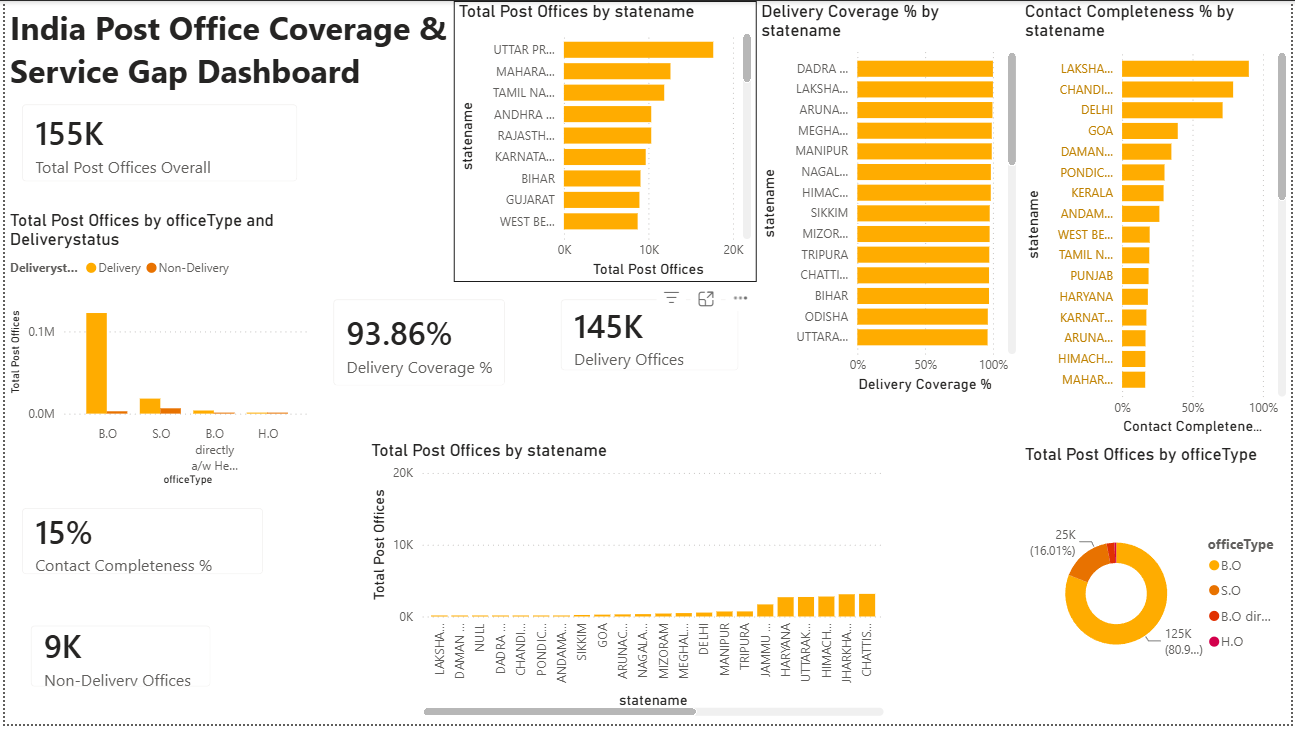

The dashboard page shown, as its layout file describes it:
{"tool":"powerbi","page":{"name":"Page 1","canvas":[1280,720],"ordinal":0},"visuals":[{"type":"cardVisual","fields":{"Data":["Dim-Office.Total Post Offices All"]},"box":[0,85.8,308.5,112],"z":0},{"type":"cardVisual","fields":{"Data":["Dim-Office.Delivery Offices"]},"box":[536.1,279.9,211.5,105.7],"z":1000},{"type":"cardVisual","fields":{"Data":["Dim-Office.Non-Delivery Offices"]},"box":[8.7,604.6,214,95.8],"z":2000},{"type":"cardVisual","fields":{"Data":["Dim-Office.Delivery Coverage %"]},"box":[309.7,279.9,205.3,120.7],"z":3000},{"type":"clusteredColumnChart","fields":{"Category":["Dim_Location.statename"],"Y":["Dim-Office.Total Post Offices"]},"box":[359.5,436.6,520,279.9],"z":4000},{"type":"donutChart","fields":{"Y":["Dim-Office.Total Post Offices"],"Category":["Dim-Office.officeType"]},"box":[1010.1,440.4,269.9,279.9],"z":5000},{"type":"cardVisual","fields":{"Data":["Dim-Office.Contact Completeness %"]},"box":[0,487.6,274.9,100.8],"z":6000},{"type":"clusteredBarChart","fields":{"Category":["Dim_Location.statename"],"Y":["Dim-Office.Delivery Coverage %"]},"box":[747.6,0,263.7,394.3],"z":7000},{"type":"clusteredColumnChart","fields":{"Category":["Dim-Office.officeType"],"Y":["Dim-Office.Total Post Offices"],"Series":["Fact_Coverage.Deliverystatus"]},"box":[0,207.7,309.7,279.9],"z":8000},{"type":"clusteredBarChart","fields":{"Category":["Dim_Location.statename"],"Y":["Dim-Office.Total Post Offices"]},"box":[446.6,0,301,279.9],"z":9000},{"type":"clusteredBarChart","fields":{"Category":["Dim_Location.statename"],"Y":["Dim-Office.Contact Completeness %"]},"box":[1010.1,0,269.9,436.6],"z":10000},{"type":"textbox","box":[0,0,446,97.4],"z":11000}]}

Visuals, with their boxes in screenshot pixels (x1, y1, x2, y2), scaled from the page's 1280x720 canvas onto the 1295x732 screenshot:
cardVisual - Dim-Office.Total Post Offices All: {"left": 0, "top": 87, "right": 312, "bottom": 201}
cardVisual - Dim-Office.Delivery Offices: {"left": 542, "top": 285, "right": 756, "bottom": 392}
cardVisual - Dim-Office.Non-Delivery Offices: {"left": 9, "top": 615, "right": 225, "bottom": 712}
cardVisual - Dim-Office.Delivery Coverage %: {"left": 313, "top": 285, "right": 521, "bottom": 407}
clusteredColumnChart - Dim_Location.statename x Dim-Office.Total Post Offices: {"left": 364, "top": 444, "right": 890, "bottom": 728}
donutChart - Dim-Office.Total Post Offices x Dim-Office.officeType: {"left": 1022, "top": 448, "right": 1294, "bottom": 731}
cardVisual - Dim-Office.Contact Completeness %: {"left": 0, "top": 496, "right": 278, "bottom": 598}
clusteredBarChart - Dim_Location.statename x Dim-Office.Delivery Coverage %: {"left": 756, "top": 0, "right": 1023, "bottom": 401}
clusteredColumnChart - Dim-Office.officeType x Dim-Office.Total Post Offices: {"left": 0, "top": 211, "right": 313, "bottom": 496}
clusteredBarChart - Dim_Location.statename x Dim-Office.Total Post Offices: {"left": 452, "top": 0, "right": 756, "bottom": 285}
clusteredBarChart - Dim_Location.statename x Dim-Office.Contact Completeness %: {"left": 1022, "top": 0, "right": 1294, "bottom": 444}
textbox: {"left": 0, "top": 0, "right": 451, "bottom": 99}
